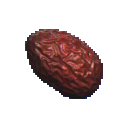gd: (11, 14, 127, 124)
